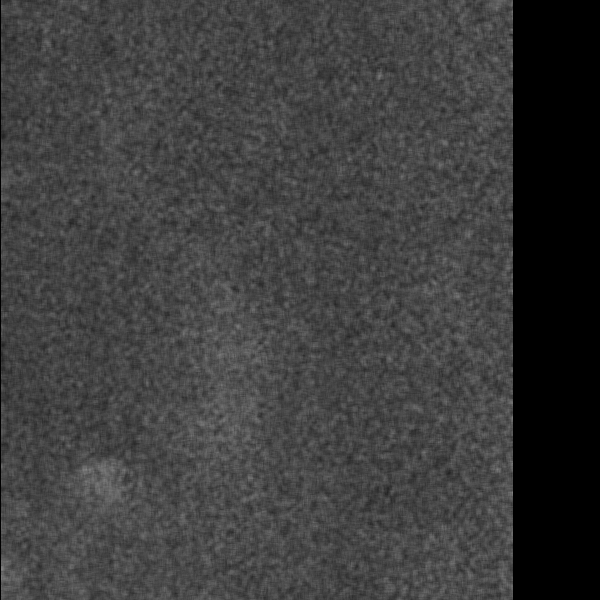spark: (91, 459, 141, 532)
